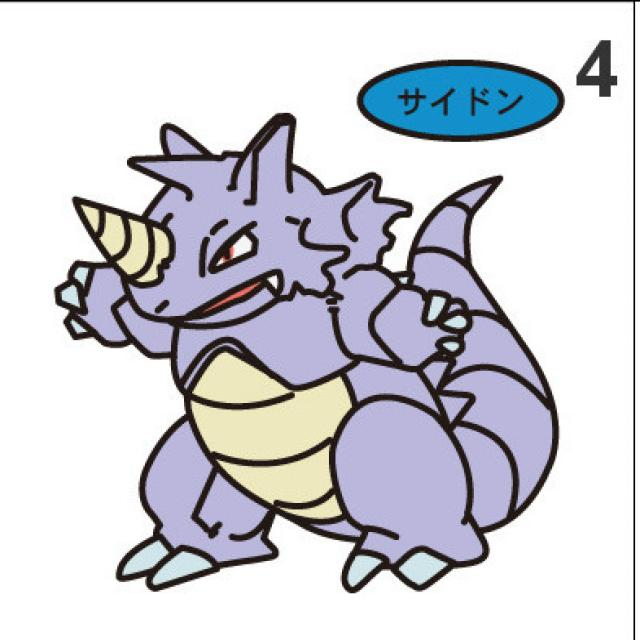Rhydon: (54, 117, 520, 585)
